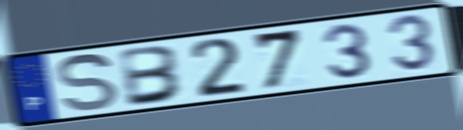2: (189, 37, 250, 100)
3: (383, 11, 439, 76), (320, 21, 373, 82)
7: (253, 27, 305, 92)
B: (118, 44, 187, 109)
S: (55, 52, 122, 113)
